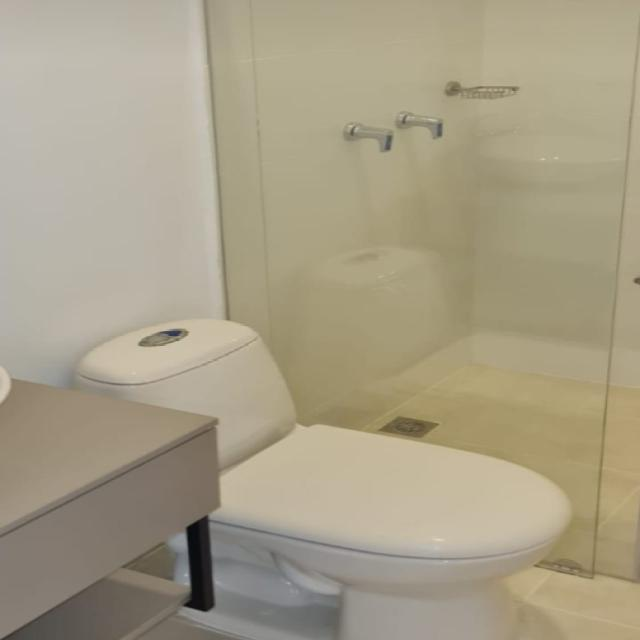toilet: (71, 317, 573, 639)
